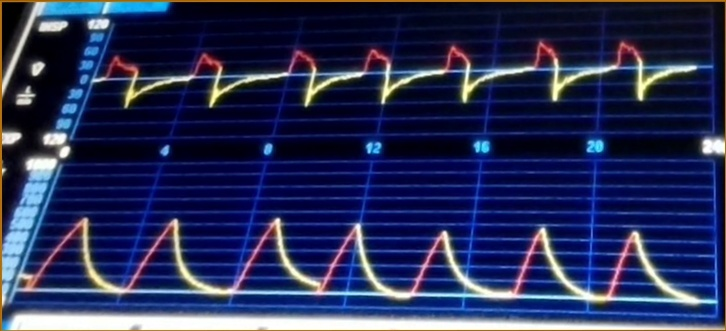Accumulation Flow: (106, 35, 686, 137)
Volume: (44, 211, 693, 311)
